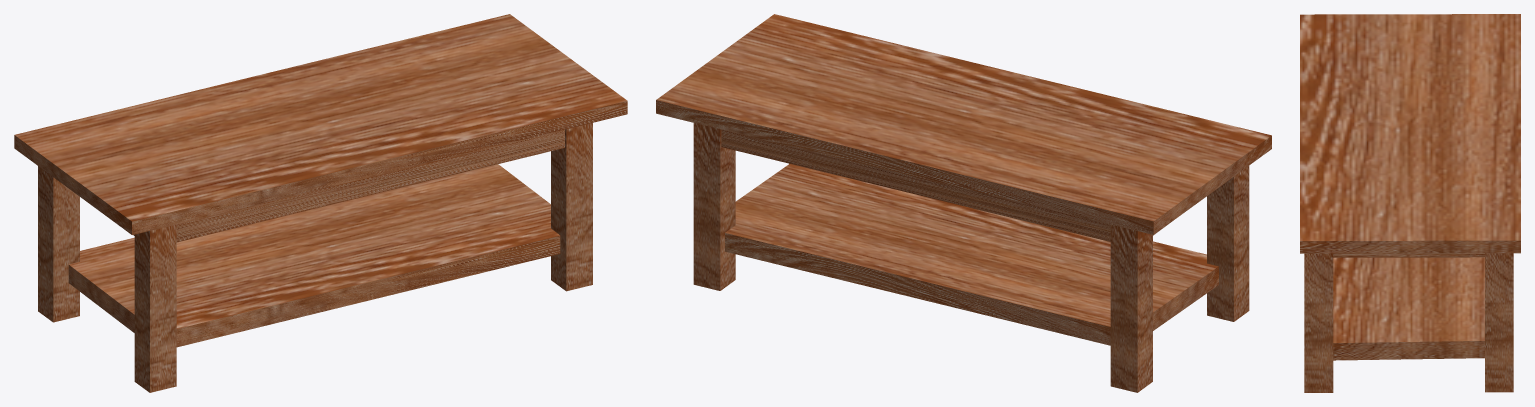
File: mejapendek.glb
The picture shows the model from 3 angles, left to right: view 1: azimuth 30°, elevation 25°; view 2: azimuth 150°, elevation 25°; view 3: azimuth 270°, elevation 25°; orthographic projection. The views are drawn at different scales.
Parts seen in each view (by area): view 1: HEADBOARD PANEL, HEADBOARD PANEL.001, HEADBOARD TOP.003, CORNER POST.004, CORNER POST.005, CORNER POST.007; view 2: HEADBOARD PANEL, HEADBOARD PANEL.001, HEADBOARD TOP.002, CORNER POST.007, CORNER POST.006, CORNER POST.004; view 3: HEADBOARD PANEL, HEADBOARD PANEL.001, CORNER POST.005, CORNER POST.006, HEADBOARD TOP.004.
Part boxes in pixels (bbox=[...]): HEADBOARD PANEL: bbox=[14, 14, 627, 234]; HEADBOARD PANEL.001: bbox=[68, 164, 560, 347]; HEADBOARD TOP.003: bbox=[176, 129, 564, 242]; CORNER POST.004: bbox=[134, 224, 176, 392]; CORNER POST.005: bbox=[551, 123, 592, 291]; CORNER POST.007: bbox=[38, 166, 79, 322]; HEADBOARD PANEL: bbox=[656, 14, 1271, 234]; HEADBOARD PANEL.001: bbox=[724, 164, 1218, 345]; HEADBOARD TOP.002: bbox=[721, 129, 1110, 241]; CORNER POST.007: bbox=[1110, 224, 1152, 392]; CORNER POST.006: bbox=[693, 123, 735, 290]; CORNER POST.004: bbox=[1207, 166, 1249, 321]; HEADBOARD PANEL: bbox=[1300, 14, 1520, 253]; HEADBOARD PANEL.001: bbox=[1333, 257, 1484, 360]; CORNER POST.005: bbox=[1304, 253, 1333, 392]; CORNER POST.006: bbox=[1485, 253, 1513, 392]; HEADBOARD TOP.004: bbox=[1333, 253, 1484, 257].
Bounding box in the file's own units: 2.1 × 0.7219 × 0.8638.
10 materials, 10 textured.
